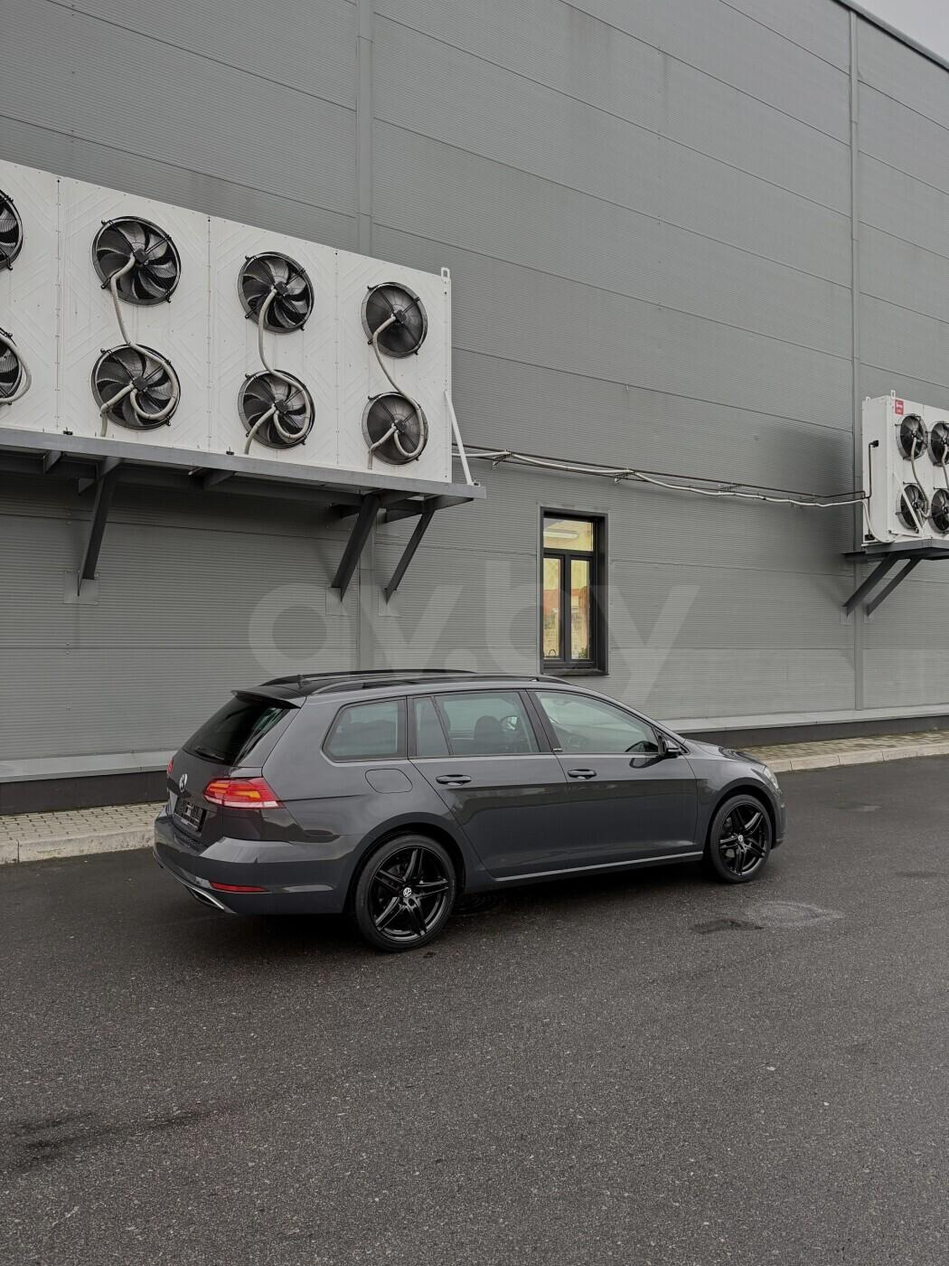Golf_2017-2021: (138, 663, 791, 955)
